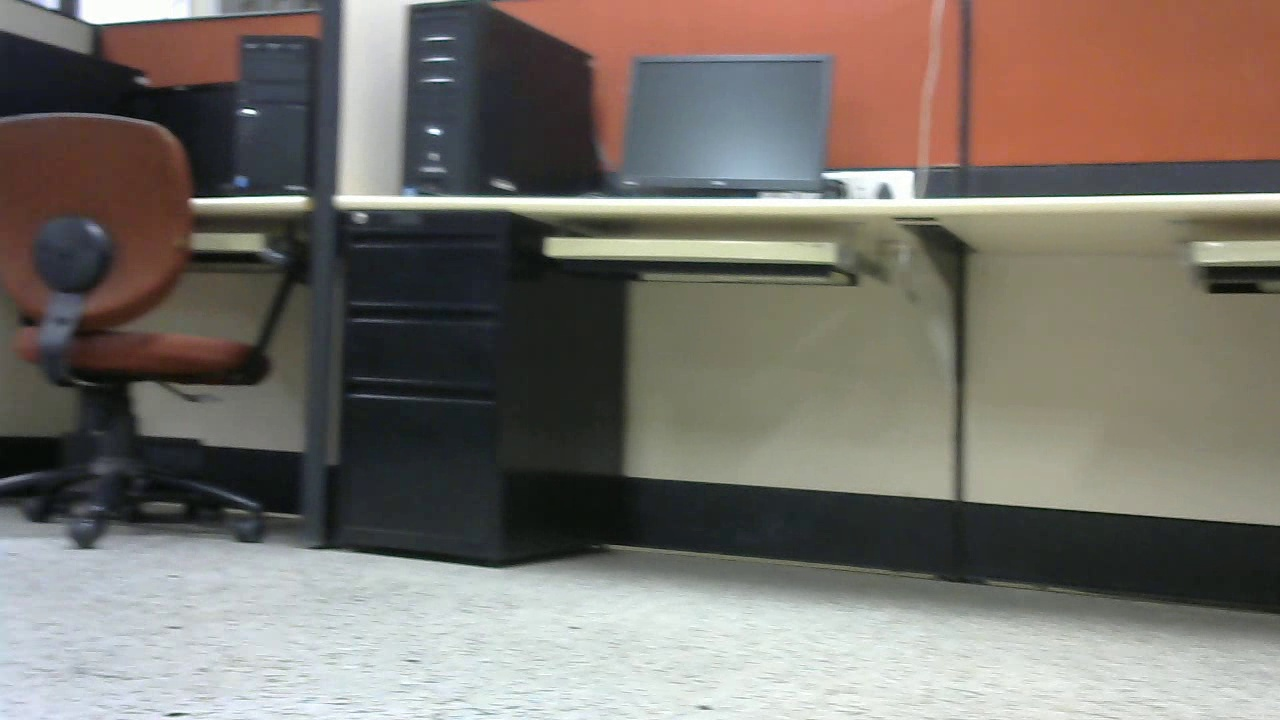chair: (1, 110, 314, 551)
